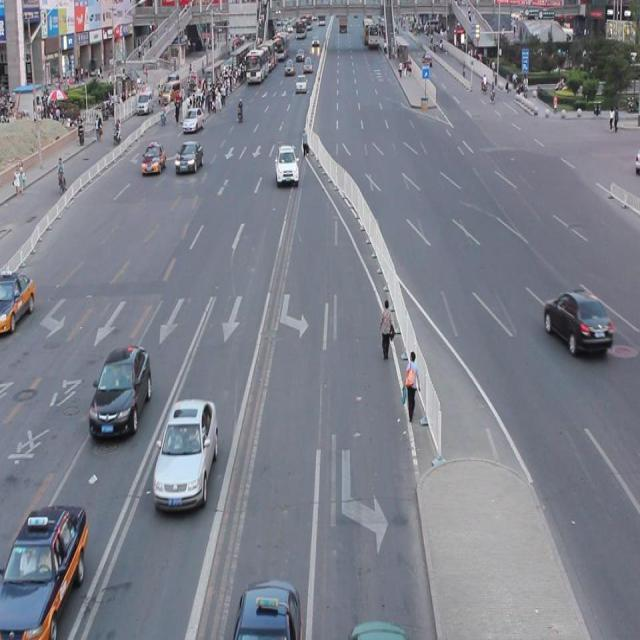car: (0, 502, 88, 640), (151, 395, 219, 513), (89, 341, 152, 441), (542, 284, 613, 357), (232, 573, 302, 640), (1, 270, 36, 333), (174, 138, 204, 176), (274, 144, 299, 185), (140, 140, 166, 176)
